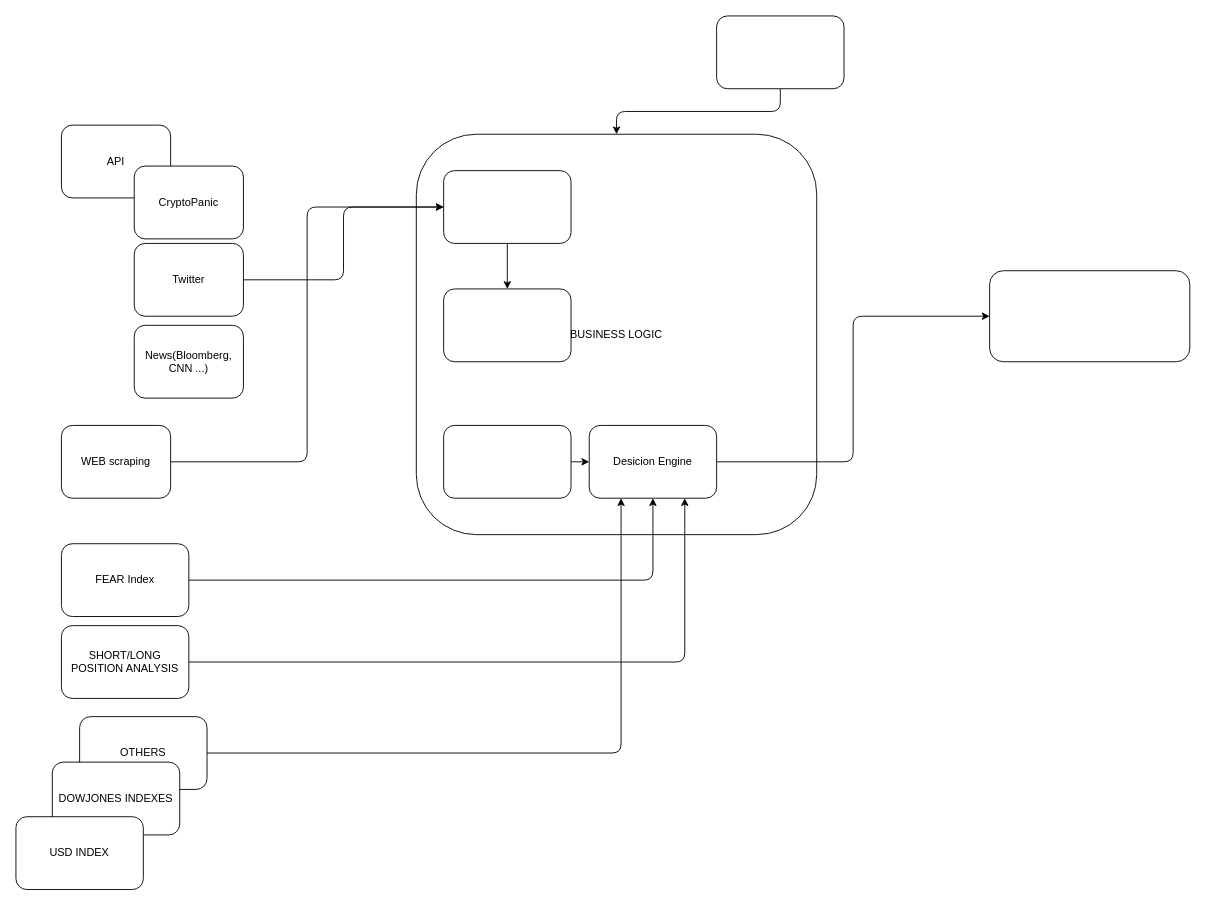
Some shapes in this 1206 by 905 pixel diagram are drawn without their labels. The centre of each missing label's shape, as x and y in pixels:
COIN Popularity: point (507, 461)
Data Cleaning: point (507, 206)
GOOGLE TRANSLATION API: point (780, 52)
NLP, (Sentimental Analysis): point (507, 325)
OUTPUT/PRESENTATION LAYER (WEB SITES): point (1089, 316)
